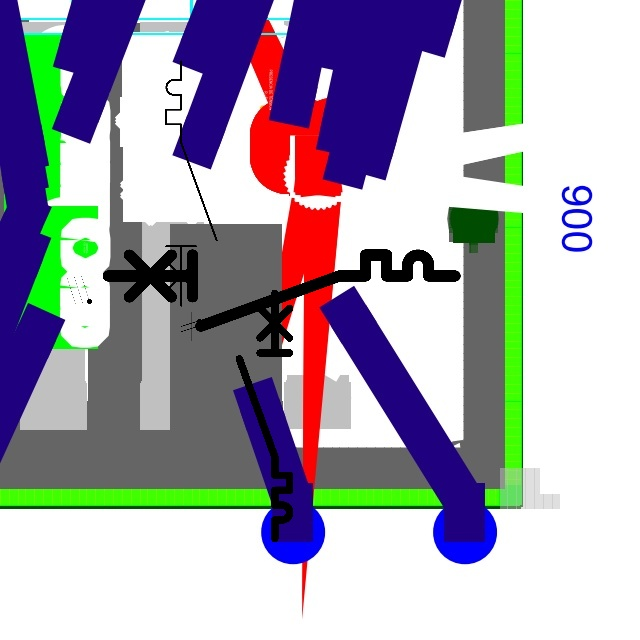interruptor_termomagnetico: (99, 246, 464, 335), (233, 287, 296, 545), (160, 55, 222, 312)
